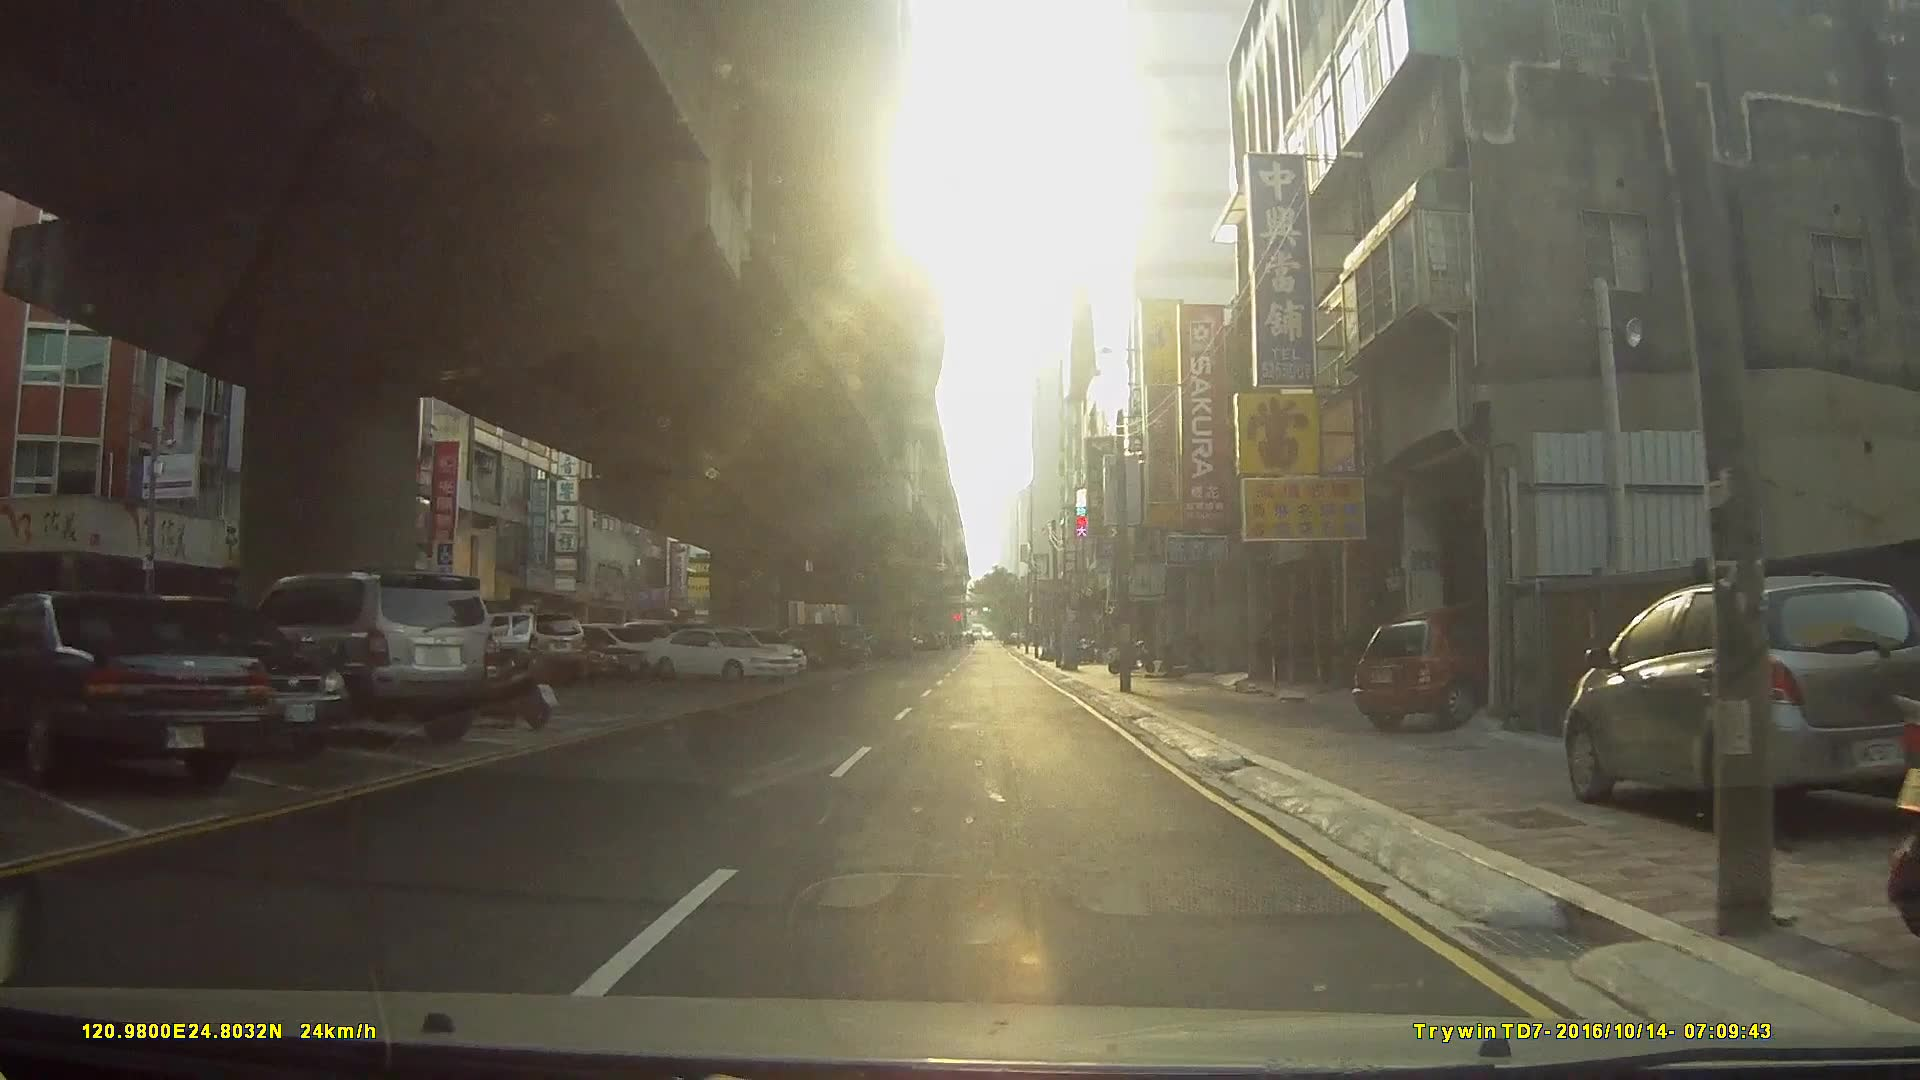vehicle: (1563, 571, 1920, 829), (0, 587, 270, 787), (227, 568, 498, 746), (83, 593, 349, 757), (1353, 603, 1528, 728), (491, 622, 645, 684), (640, 622, 798, 682), (459, 609, 585, 680)
